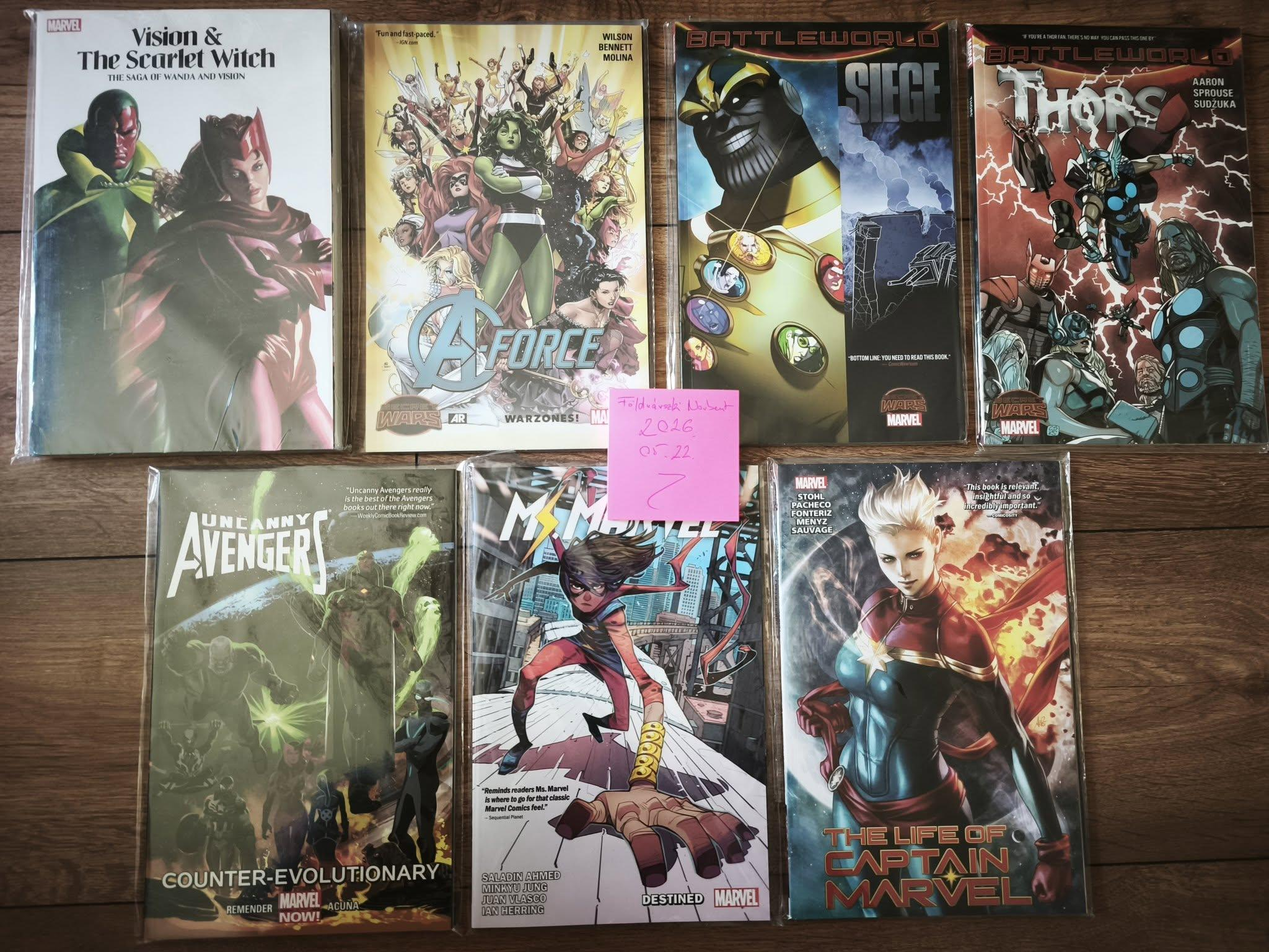comic: (764, 447, 1091, 929), (141, 467, 457, 938), (14, 9, 341, 454), (463, 458, 770, 927), (967, 17, 1269, 451), (665, 20, 964, 445), (358, 22, 653, 452)
